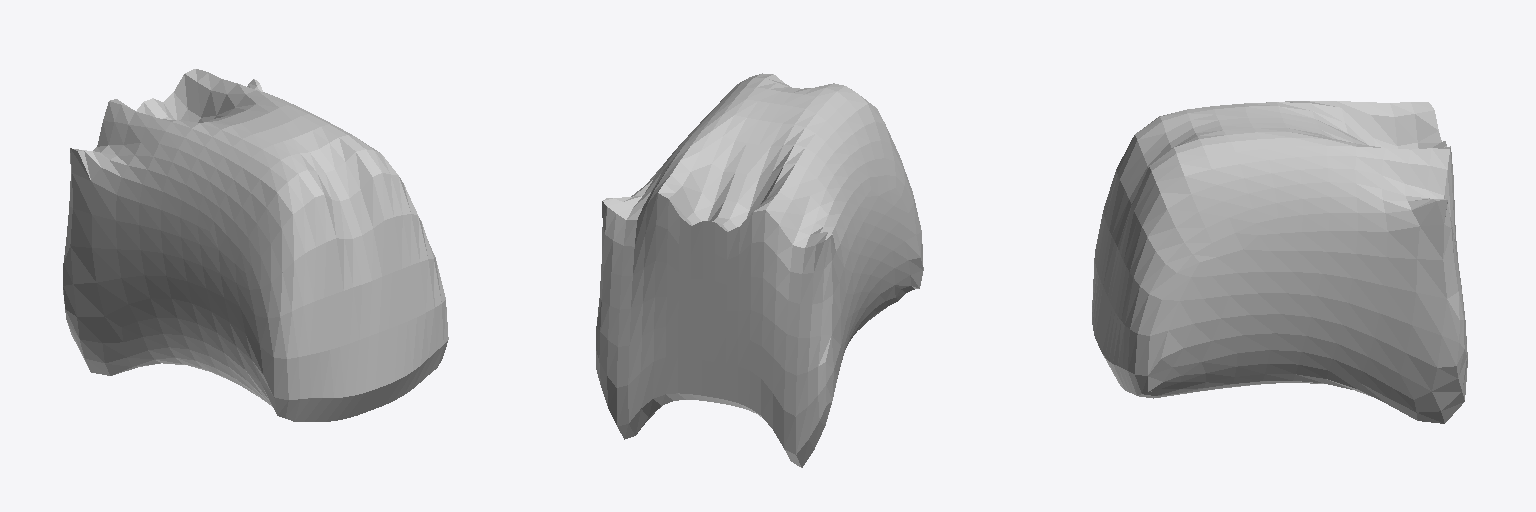
File: rearlsmalltoe3.obj
The picture shows the model from 3 angles: view 1: azimuth 30°, elevation 25°; view 2: azimuth 150°, elevation 25°; view 3: azimuth 270°, elevation 25°; orthographic projection.
Parts seen in each view (by area): view 1: Cube.155_Cube.157; view 2: Cube.155_Cube.157; view 3: Cube.155_Cube.157.
Part boxes in pixels (x1,y1,x2,y2): Cube.155_Cube.157: (63, 69, 448, 421); Cube.155_Cube.157: (596, 73, 923, 467); Cube.155_Cube.157: (1092, 101, 1467, 423).
Bounding box in the file's own units: 0.0286 × 0.0304 × 0.037.